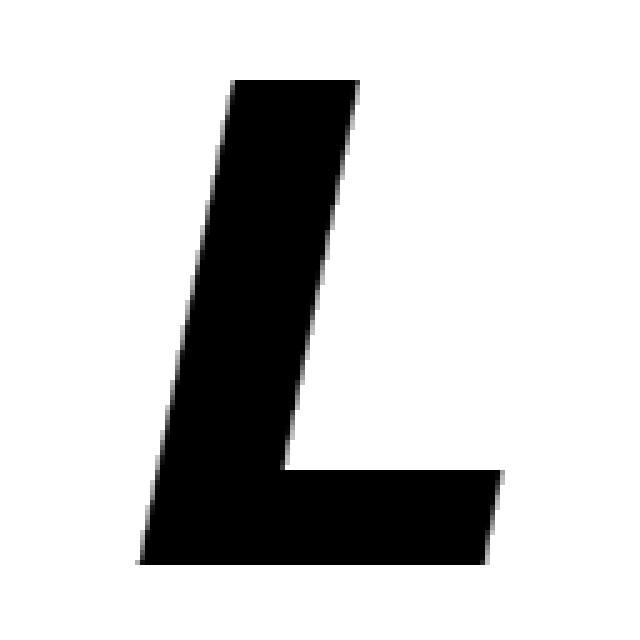L: (133, 65, 500, 569)
